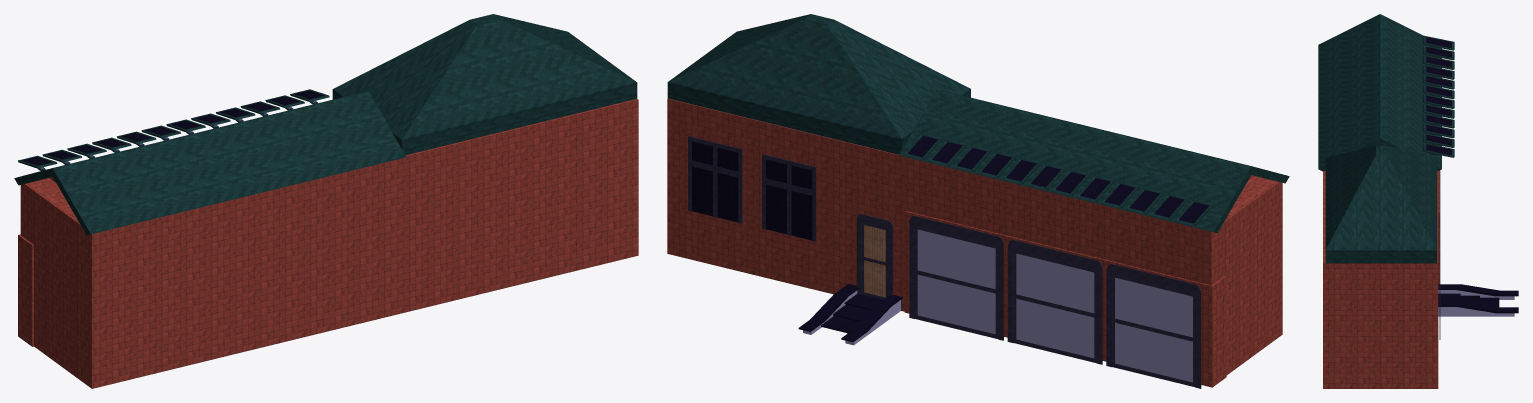
File: Expensive_house_1.glb
3 renders of one model, left to right at view 1: azimuth 30°, elevation 25°; view 2: azimuth 150°, elevation 25°; view 3: azimuth 270°, elevation 25°, orthographic. The views are drawn at different scales.
Visible parts, largest first — view 1: mergedBlocks(Clone); view 2: mergedBlocks(Clone); view 3: mergedBlocks(Clone).
Boxes of the visible parts, x1,y1,x2,y2 form: mergedBlocks(Clone): (14,14,638,388); mergedBlocks(Clone): (667,14,1289,388); mergedBlocks(Clone): (1318,14,1518,388).
Bounding box in the file's own units: 22.25 × 9.34 × 8.69.
Materials: 7 (5 with a texture image).
